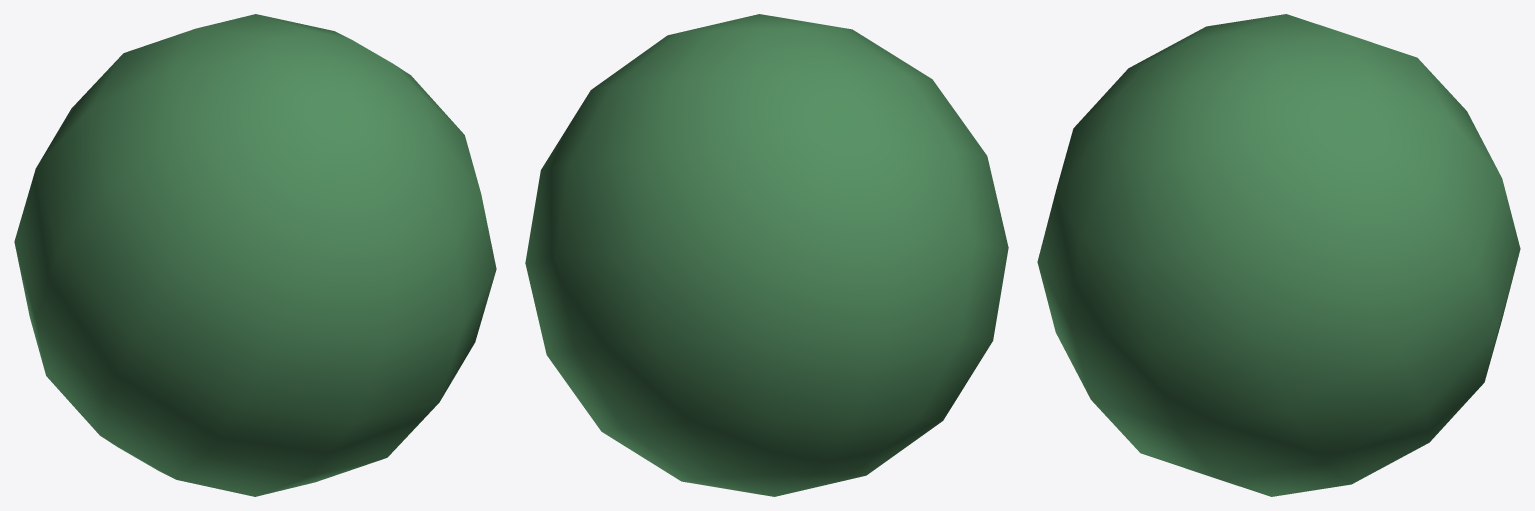
3 views of the same model, side by side, from view 1: azimuth 30°, elevation 25°; view 2: azimuth 150°, elevation 25°; view 3: azimuth 270°, elevation 25° (orthographic).
Visible parts, largest first — view 1: 奇静脉弓淋巴结; view 2: 奇静脉弓淋巴结; view 3: 奇静脉弓淋巴结.
Part boxes in pixels (x1,y1,x2,y2): 奇静脉弓淋巴结: (14,14,496,496); 奇静脉弓淋巴结: (525,14,1008,496); 奇静脉弓淋巴结: (1037,14,1520,496).
Bounding box in the file's own units: 0.00379 × 0.00382 × 0.00383.
